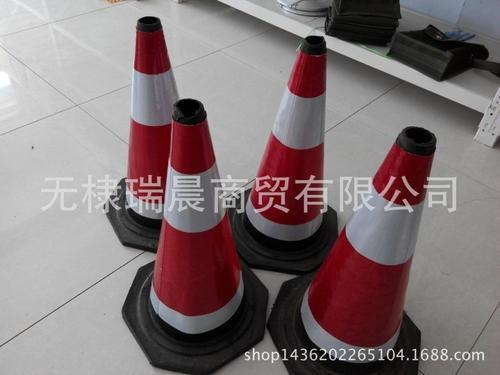cone_barrel: (298, 121, 444, 360), (141, 89, 251, 343), (234, 39, 337, 253), (115, 14, 184, 227)
